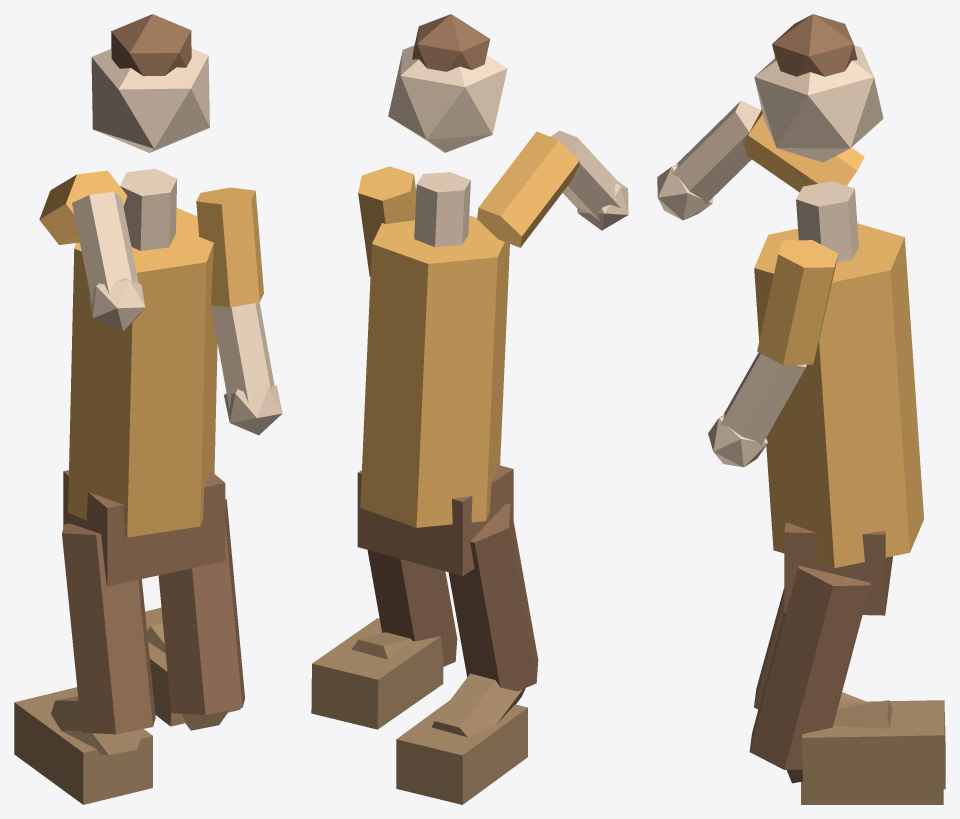
The model's file is pose_attack_1_13.glb.
3 views of the same model, side by side, from view 1: azimuth 30°, elevation 25°; view 2: azimuth 150°, elevation 25°; view 3: azimuth 270°, elevation 25° (orthographic). The views are drawn at different scales.
Parts seen in each view (by area): view 1: pose; view 2: pose; view 3: pose.
Boxes of the visible parts, x1,y1,x2,y2 form: pose: (14,14,282,804); pose: (311,14,628,804); pose: (657,14,945,804).
Size of the model in its own units: 0.4457 by 1.47 by 0.4856.
